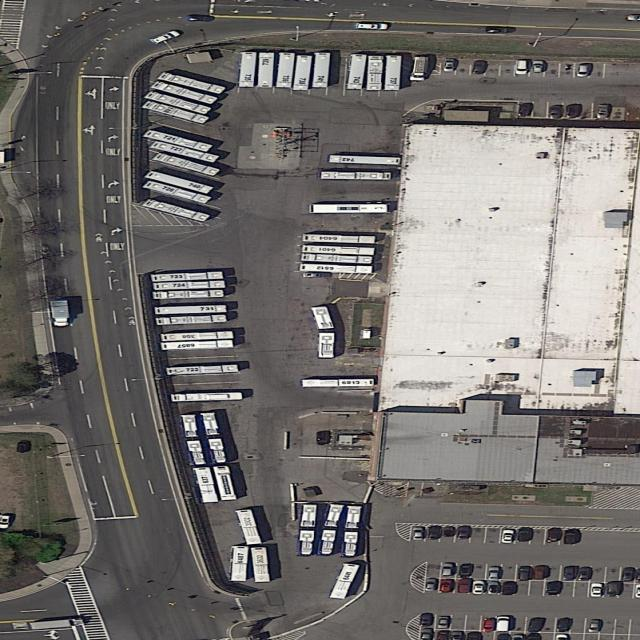large-vehicle: (144, 90, 214, 116), (314, 504, 348, 557), (143, 170, 215, 195), (141, 180, 213, 205), (152, 152, 223, 177), (141, 100, 211, 125), (177, 413, 209, 467), (142, 129, 214, 153), (150, 81, 221, 105), (149, 140, 222, 163), (141, 199, 213, 222), (199, 411, 229, 465), (157, 72, 228, 94), (295, 504, 320, 557), (311, 306, 336, 358), (328, 562, 362, 600), (340, 505, 364, 558), (235, 508, 264, 545), (165, 363, 240, 376), (193, 467, 220, 503), (213, 465, 238, 502), (309, 203, 390, 214), (329, 154, 403, 166), (156, 314, 228, 326), (161, 339, 233, 351), (301, 233, 377, 244), (345, 54, 368, 90), (150, 271, 225, 282), (153, 304, 228, 315), (300, 263, 374, 274), (152, 280, 226, 291), (292, 55, 314, 92), (229, 545, 251, 582), (153, 289, 225, 300), (301, 253, 373, 264), (304, 245, 375, 256), (311, 52, 332, 88), (169, 392, 244, 402), (161, 331, 235, 341), (256, 52, 276, 89), (276, 52, 296, 89), (249, 547, 269, 583), (321, 171, 392, 181), (365, 55, 384, 90), (238, 52, 257, 87), (384, 55, 402, 91), (301, 379, 376, 387)
small-vehicle: (50, 300, 71, 327), (148, 30, 182, 45), (527, 616, 548, 633), (355, 22, 391, 31), (533, 565, 551, 582), (513, 59, 531, 75), (544, 528, 564, 542), (495, 616, 511, 633), (566, 103, 582, 119), (563, 565, 578, 582), (500, 529, 517, 544), (565, 529, 580, 546), (516, 567, 534, 581), (481, 618, 497, 633), (556, 617, 571, 633), (471, 580, 487, 595), (457, 579, 473, 594), (578, 566, 593, 581), (442, 57, 457, 72), (547, 581, 562, 596), (501, 581, 516, 596), (596, 103, 610, 119), (487, 567, 503, 581), (458, 564, 474, 578), (419, 613, 435, 627), (587, 619, 603, 633), (455, 527, 472, 540), (621, 566, 635, 581), (427, 526, 442, 540), (550, 104, 564, 119), (472, 60, 487, 74), (487, 581, 502, 595), (517, 529, 533, 542), (531, 60, 547, 73), (424, 579, 440, 592), (487, 26, 515, 33), (519, 103, 533, 117), (576, 63, 590, 77), (186, 15, 214, 22), (606, 582, 620, 596), (591, 583, 604, 598), (440, 580, 455, 593), (441, 564, 456, 577), (437, 616, 451, 629), (412, 527, 425, 540), (443, 526, 457, 537)
